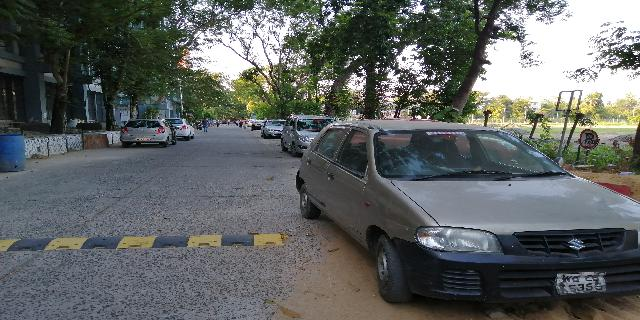Car: (295, 112, 640, 303), (116, 120, 174, 149), (280, 117, 315, 157), (172, 116, 199, 140), (260, 116, 285, 138)
